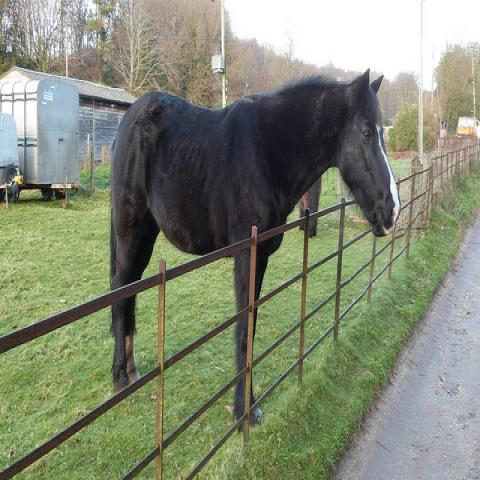truck: (0, 71, 82, 203), (0, 115, 20, 194)
